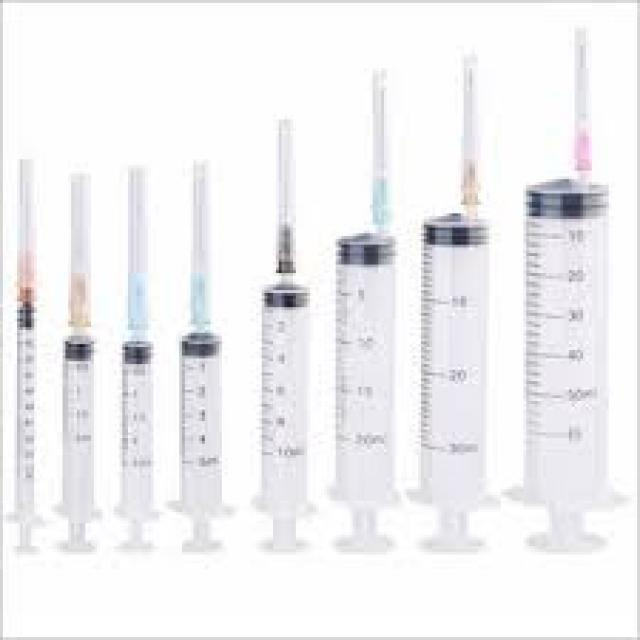syringe: (408, 25, 610, 583)
